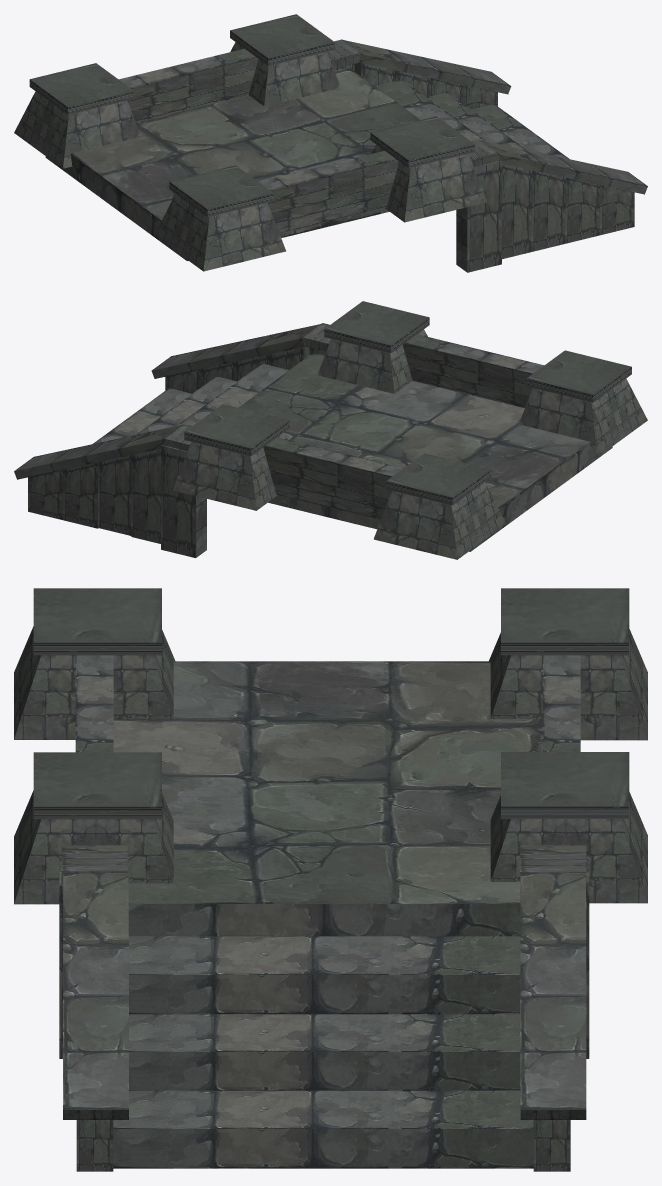
File: Stairup straight border.fbx
3 views of the same model, one above another, from view 1: azimuth 30°, elevation 25°; view 2: azimuth 150°, elevation 25°; view 3: azimuth 270°, elevation 25° (orthographic). The views are drawn at different scales.
Parts seen in each view (by area): view 1: Cube.1333; view 2: Cube.1333; view 3: Cube.1333.
Part boxes in pixels (box(x1,y1,x2,y2)): Cube.1333: box(14, 14, 647, 272); Cube.1333: box(14, 301, 647, 559); Cube.1333: box(14, 588, 647, 1171).
Bounding box in the file's own units: 6.56 × 1.83 × 4.69.
Materials: 4 (4 with a texture image).
